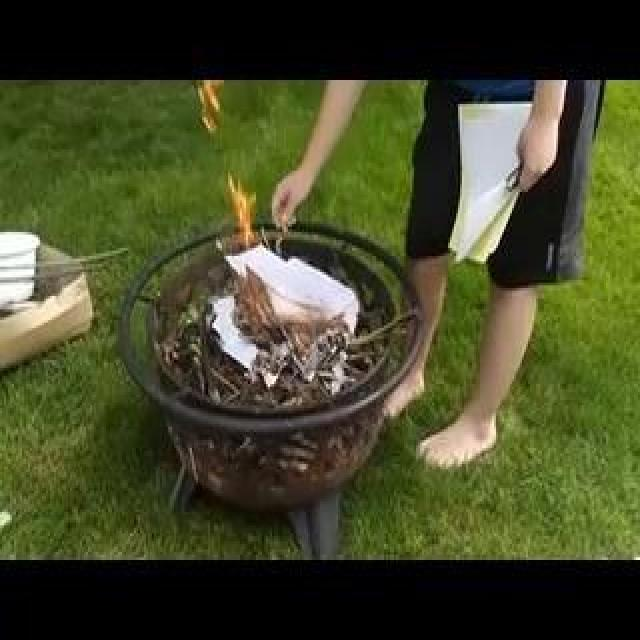Fire: (76, 202, 248, 242)
